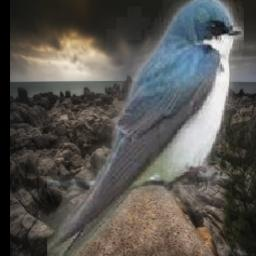Swallow: (47, 0, 244, 256)
